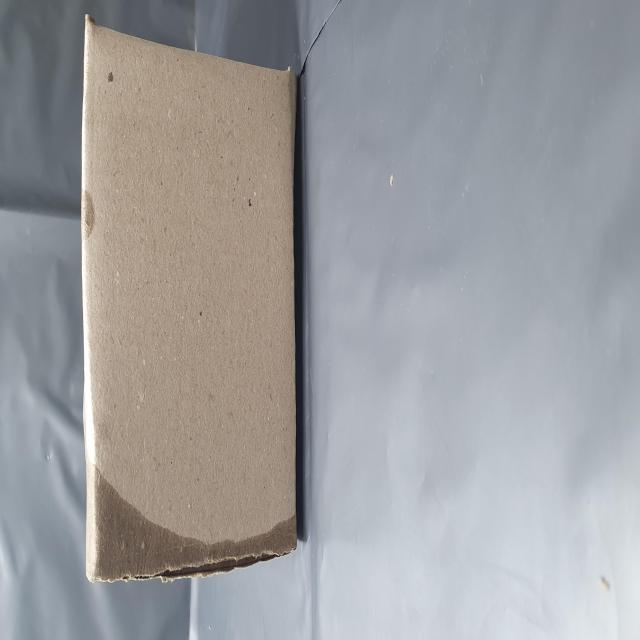wet: (29, 149, 107, 540)
